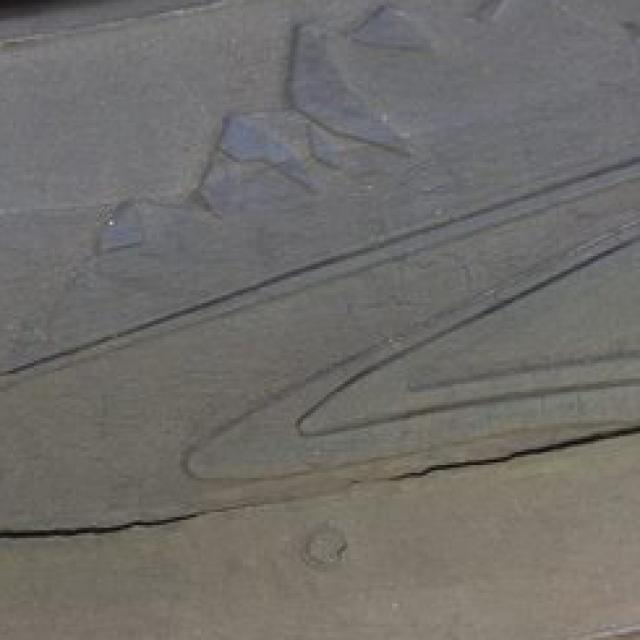Cracks: (0, 380, 637, 565)
